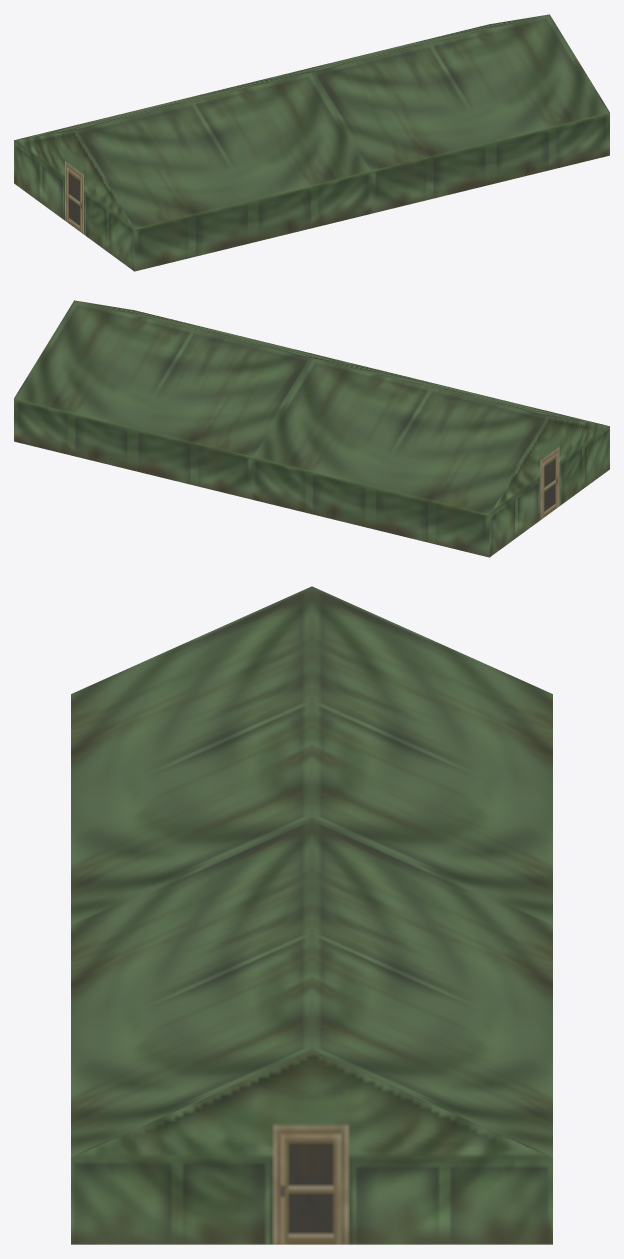
Rendered from longtent.glb.
3 renders of one model, top to bottom at view 1: azimuth 30°, elevation 25°; view 2: azimuth 150°, elevation 25°; view 3: azimuth 270°, elevation 25°, orthographic. The views are drawn at different scales.
Parts seen in each view (by area): view 1: HQTent; view 2: HQTent; view 3: HQTent.
Boxes of the visible parts, bbox=[...] form: HQTent: bbox=[14, 14, 609, 271]; HQTent: bbox=[14, 300, 609, 557]; HQTent: bbox=[71, 586, 552, 1244].
Bounding box in the file's own units: 16.18 × 3.16 × 7.1.
Materials: 1 (1 with a texture image).
